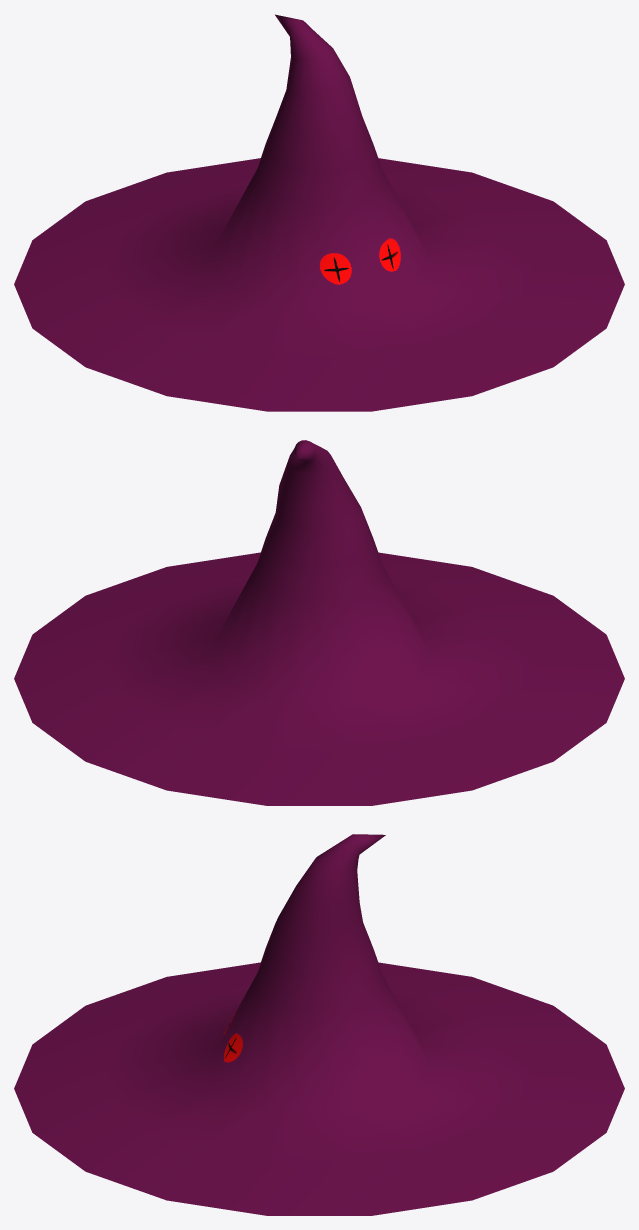
Rendered from MageHat.FBX.
3 views of the same model, one above another, from view 1: azimuth 30°, elevation 25°; view 2: azimuth 150°, elevation 25°; view 3: azimuth 270°, elevation 25° (orthographic).
Parts seen in each view (by area): view 1: Sphere001; view 2: Sphere001; view 3: Sphere001.
Part boxes in pixels (left/top/right/bottom): Sphere001: left=14, top=14, right=624, bottom=411; Sphere001: left=14, top=440, right=624, bottom=805; Sphere001: left=14, top=834, right=624, bottom=1215.
Size of the model in its own units: 58.19 by 26.89 by 59.09.
Materials: 1 (1 with a texture image).
